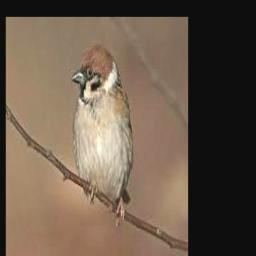Sparrow: (71, 44, 133, 225)
